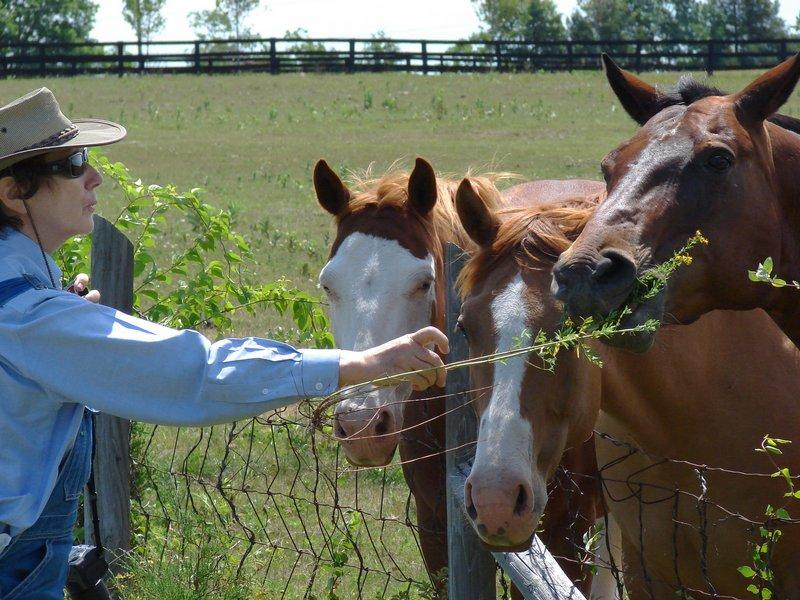person: (1, 89, 453, 593)
